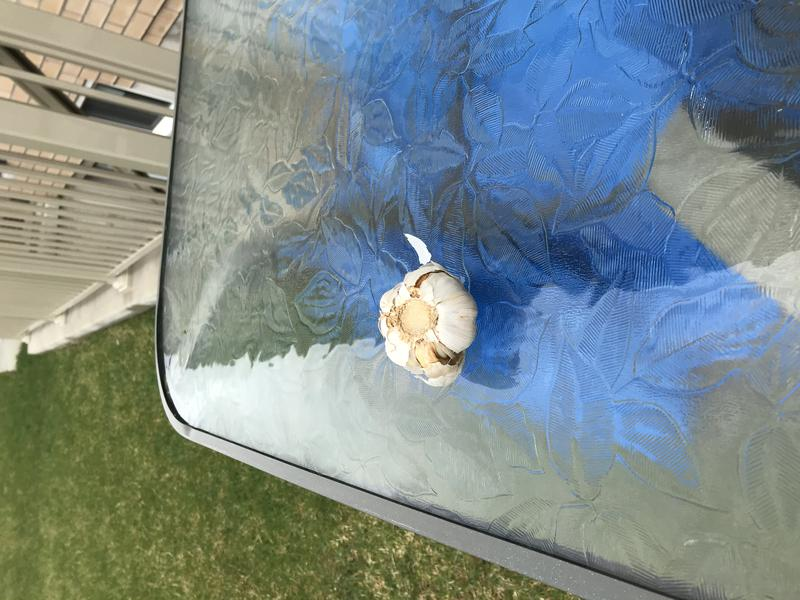garlic: (373, 261, 487, 393)
